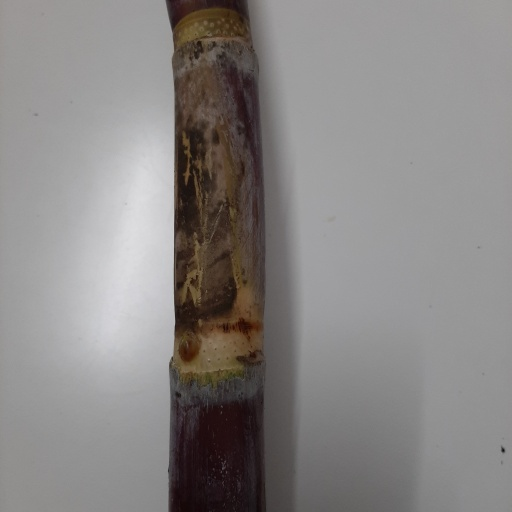Bud: (177, 329, 200, 363)
